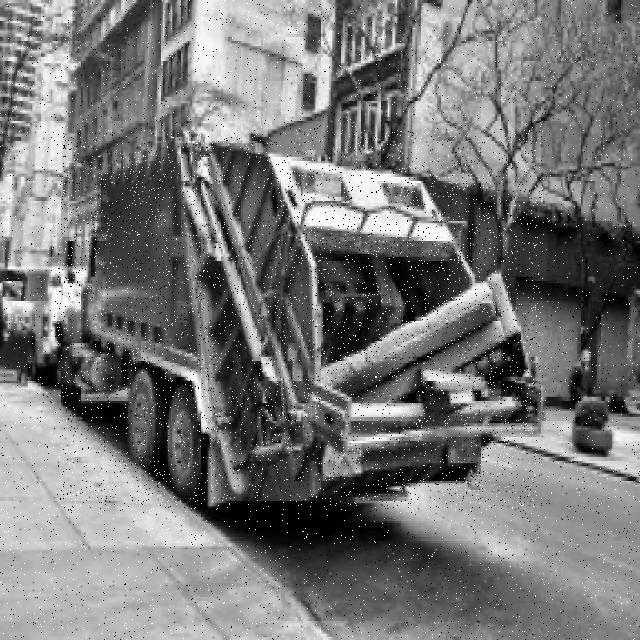Garbage Truck: (57, 130, 543, 511)
